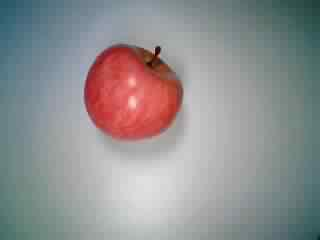apple: (80, 42, 185, 144)
